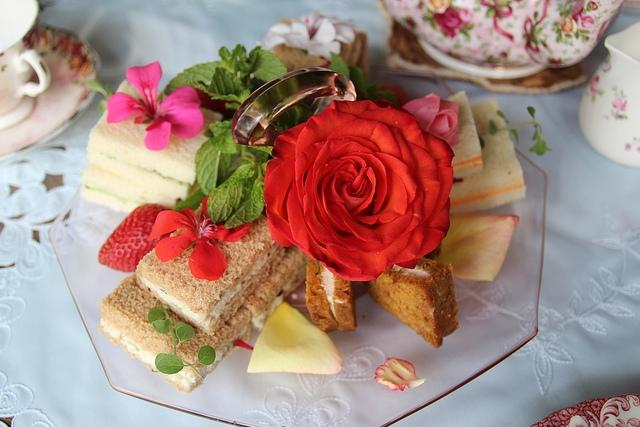strawberry: (98, 203, 177, 272)
